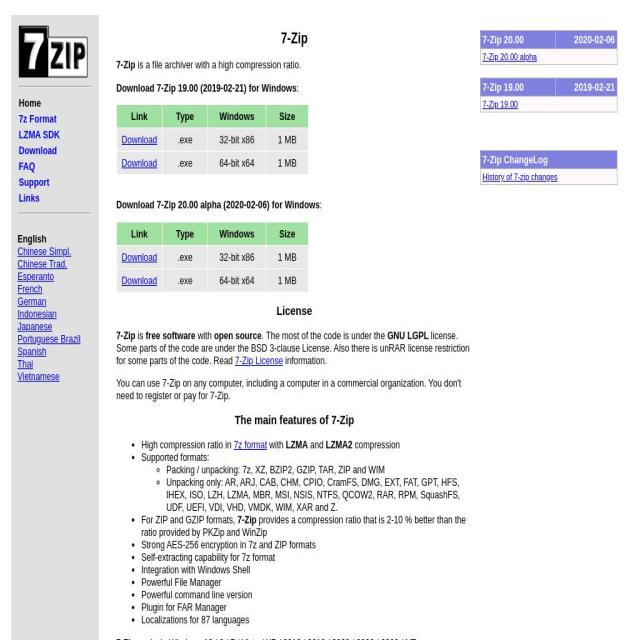heading: (116, 30, 472, 48), (116, 302, 472, 318), (116, 412, 472, 428)
image: (18, 25, 88, 77)
link: (18, 332, 80, 345), (482, 172, 558, 182), (18, 244, 72, 258), (234, 353, 284, 367), (18, 257, 68, 270), (18, 369, 60, 383), (482, 52, 537, 62), (19, 128, 60, 141), (17, 307, 57, 320), (17, 269, 54, 283), (121, 133, 157, 147), (121, 273, 157, 287), (19, 144, 57, 157), (18, 319, 52, 333), (233, 437, 267, 451), (121, 157, 157, 170), (121, 250, 157, 263), (19, 113, 56, 125), (18, 294, 46, 308), (18, 344, 46, 358), (19, 176, 49, 188), (483, 99, 518, 109), (18, 282, 42, 295), (19, 192, 39, 204), (18, 357, 33, 370), (19, 160, 35, 172)
text: (117, 328, 470, 367), (166, 475, 472, 513), (116, 377, 472, 402), (142, 512, 466, 538), (142, 537, 472, 551), (142, 562, 472, 576), (142, 587, 472, 601), (142, 612, 472, 626), (142, 550, 472, 563), (142, 575, 472, 588), (142, 600, 472, 613), (166, 462, 472, 476), (116, 198, 320, 212), (116, 81, 297, 94), (135, 57, 301, 71), (481, 151, 617, 168), (262, 328, 388, 342), (208, 128, 266, 152), (208, 268, 266, 292), (142, 512, 238, 526), (208, 105, 266, 128), (208, 152, 266, 175), (208, 222, 266, 245), (208, 245, 266, 268), (481, 78, 555, 96), (141, 437, 234, 451), (481, 31, 555, 48), (135, 636, 417, 640), (162, 128, 208, 152), (162, 268, 208, 292), (556, 78, 616, 96), (162, 105, 208, 128), (162, 152, 208, 175), (162, 222, 208, 245), (162, 245, 208, 268), (117, 105, 162, 128), (117, 222, 162, 245), (556, 31, 616, 48), (266, 128, 308, 152), (266, 268, 308, 292), (266, 105, 308, 128), (266, 152, 308, 175), (266, 222, 308, 245), (266, 245, 308, 268), (142, 450, 210, 463), (145, 328, 196, 342), (214, 328, 262, 342), (352, 437, 400, 451), (282, 353, 327, 367), (387, 328, 429, 342), (326, 437, 353, 451), (18, 232, 46, 245), (286, 437, 308, 451), (116, 57, 136, 71), (116, 328, 136, 342), (195, 328, 214, 342), (267, 437, 286, 451), (237, 512, 256, 526), (19, 97, 41, 109), (308, 437, 326, 451), (135, 328, 146, 342), (116, 636, 136, 640), (319, 198, 322, 212), (296, 81, 299, 94)
